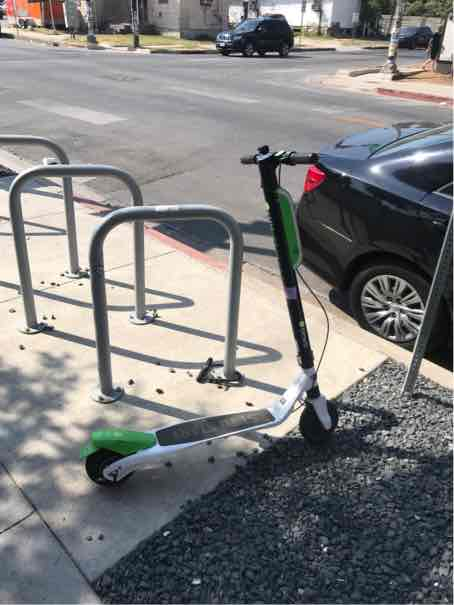scooter: (71, 129, 342, 496)
